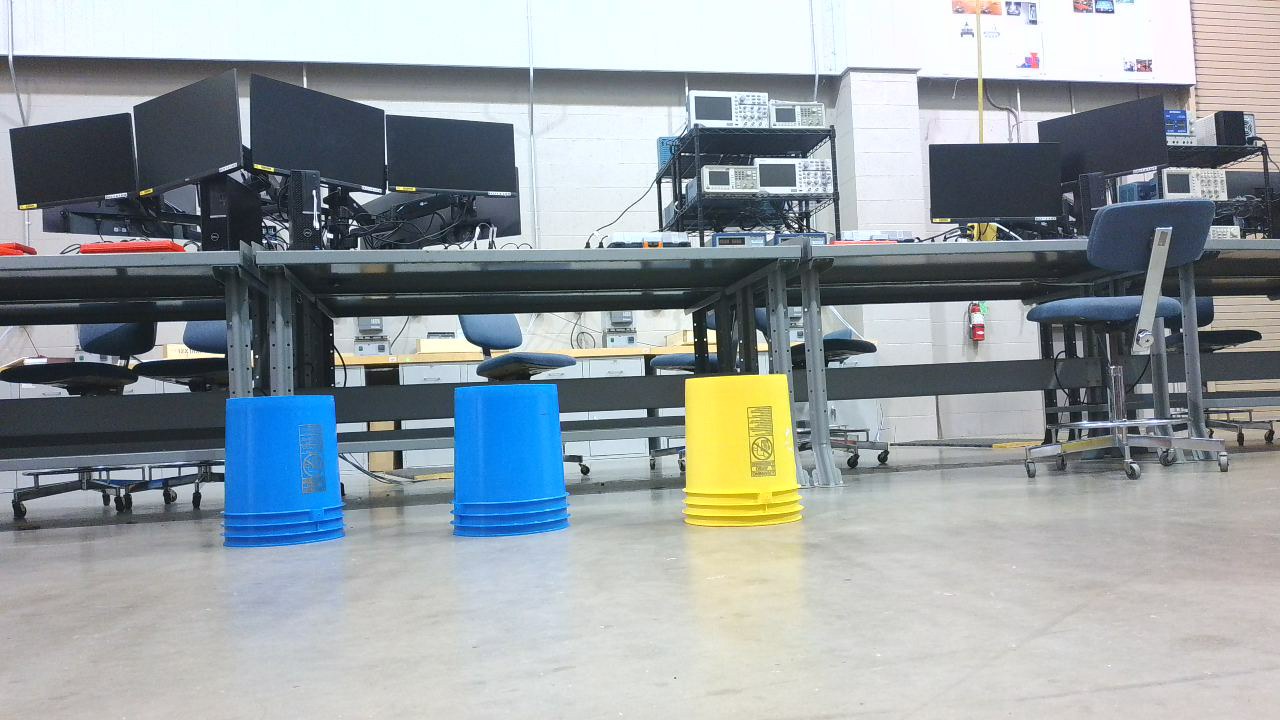blue_bucket: (224, 395, 354, 559), (453, 383, 577, 547)
yellow_bucket: (682, 371, 812, 544)
